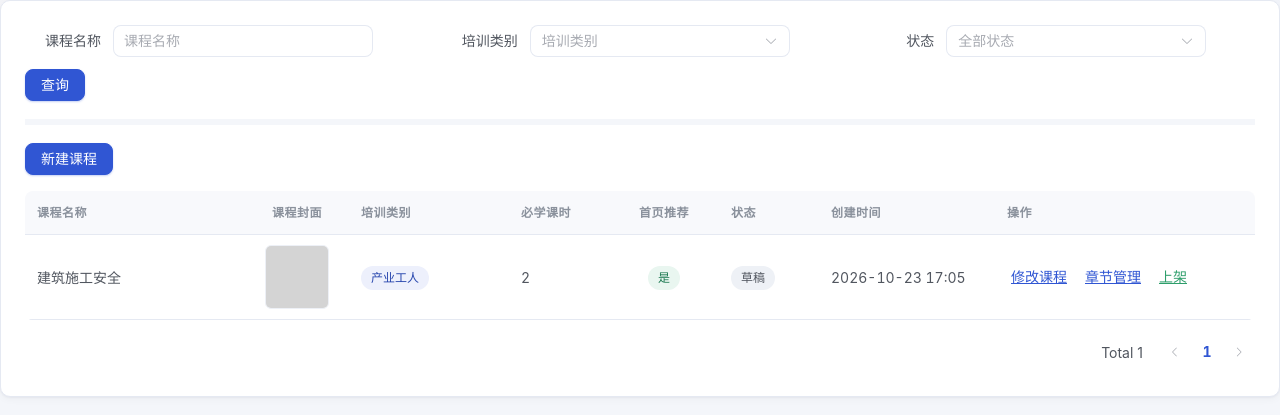
Test: course presentation › removes editing after publishing and restores it only after confirmed offline refresh
Click the button "上架": (1173, 277) x1=1155 y1=268 x2=1191 y2=286
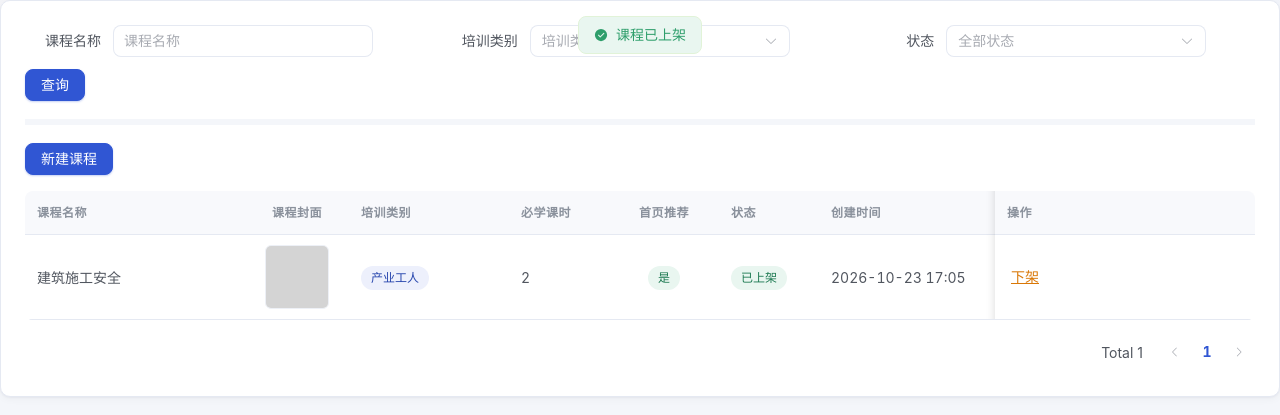
Expected: the buttons read "下架", in this order
Click the button "下架": (1025, 277) x1=1007 y1=268 x2=1043 y2=286
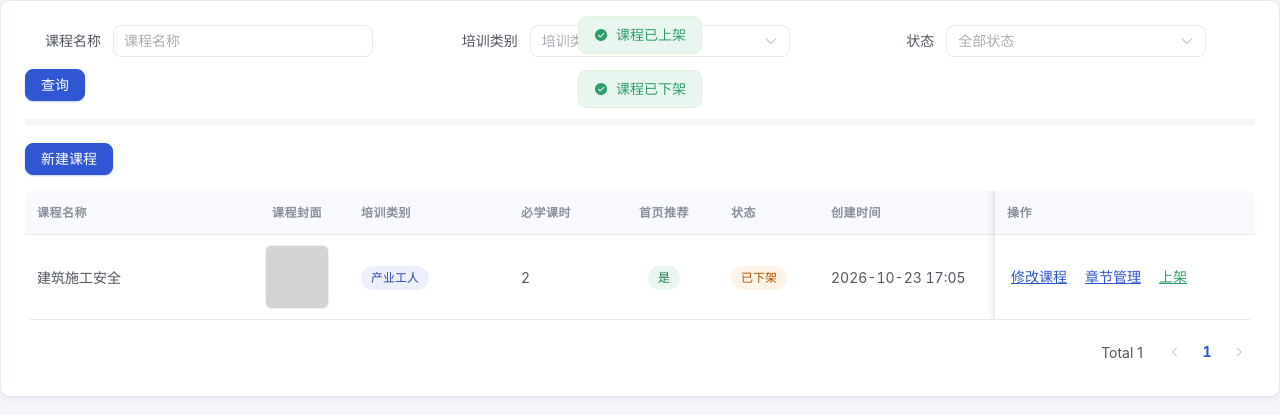
Expected: the row "建筑施工安全 产业工人 2 是 已下架 2026-10-23 17:05 修改课程 章节管理 上架" is shown, x1=25 y1=235 x2=1255 y2=320
Expected: the buttons read "修改课程", "章节管理", "上架", in this order, x1=1007 y1=268 x2=1071 y2=286; x1=1081 y1=268 x2=1145 y2=286; x1=1155 y1=268 x2=1191 y2=286
